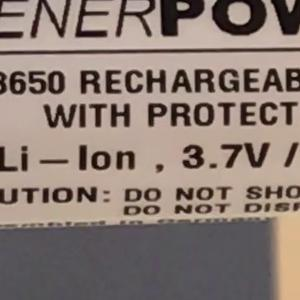keyword: (172, 132, 280, 179)
